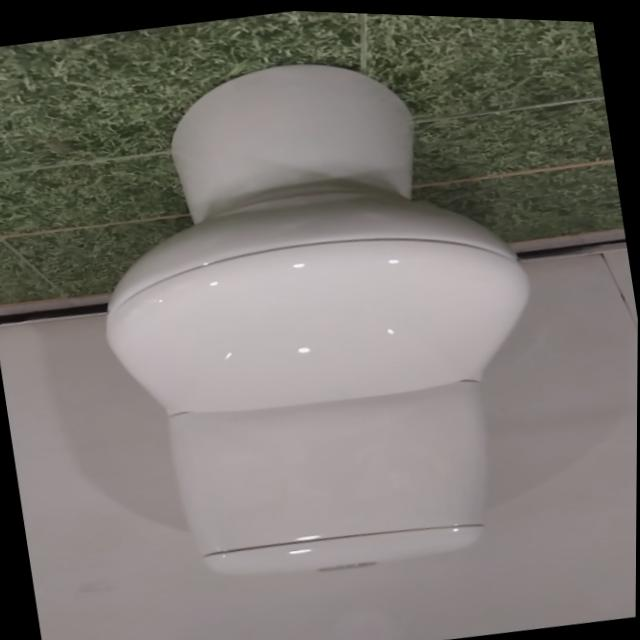toilet: (66, 24, 574, 605)
